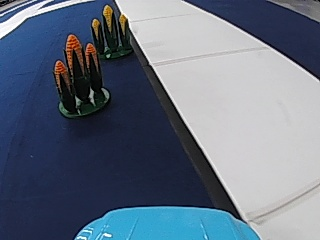corn: (53, 31, 110, 119), (89, 4, 134, 58)
